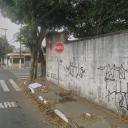Pare: (54, 42, 64, 53)
